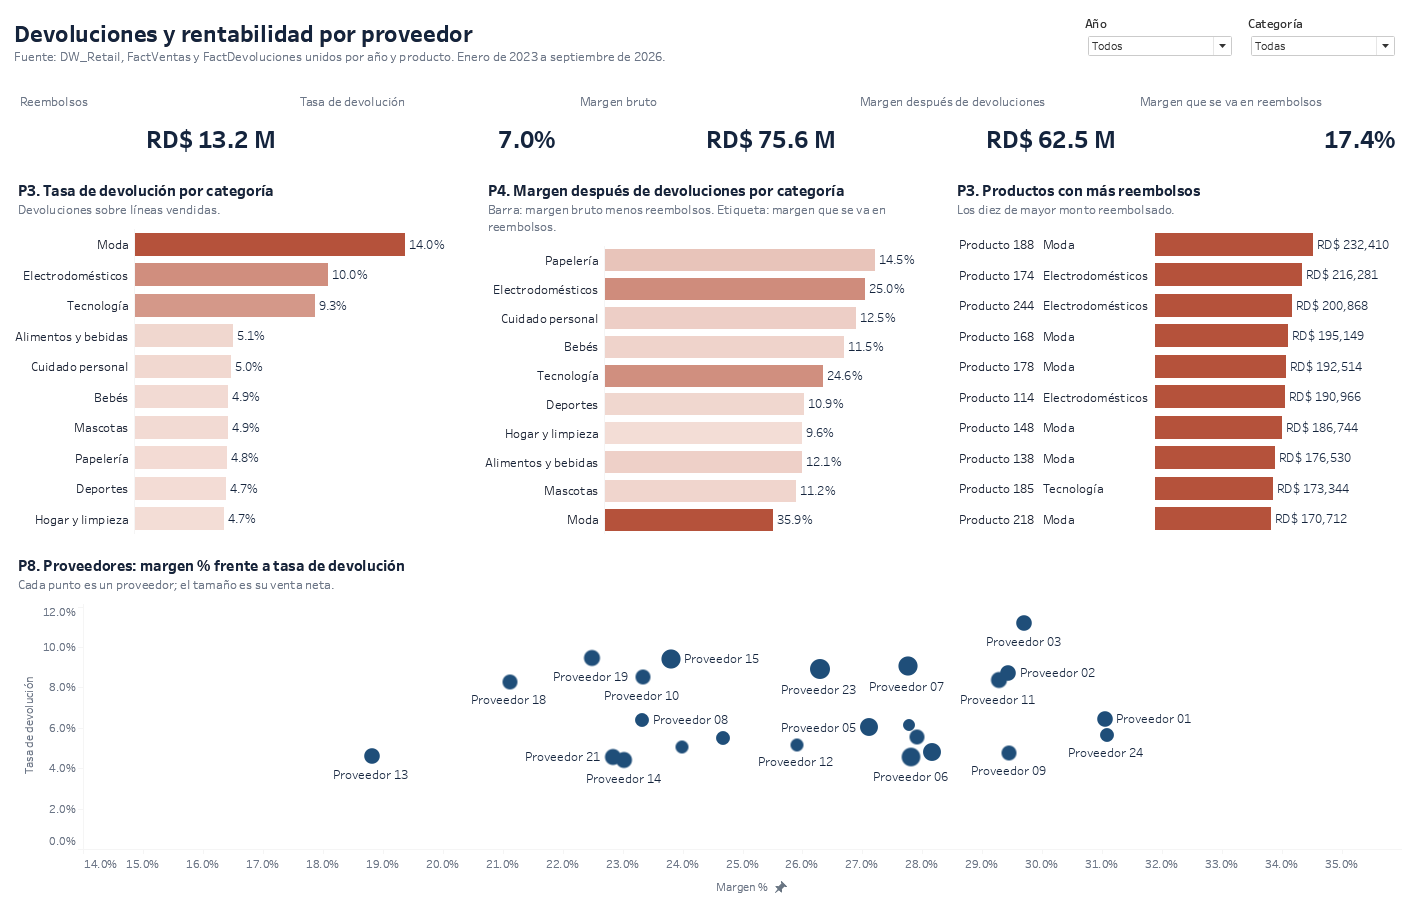

This screenshot's page, from the dashboard's own definition file:
{"tool":"tableau","page":{"name":"Devoluciones y proveedores","canvas":[1400,900],"ordinal":1},"visuals":[{"type":"text","box":[11.2,5.4,840,66.6]},{"type":"parameter","param":"[Parameters].[p_anio]","box":[1066.8,8.1,155.4,61.2]},{"type":"parameter","param":"[Parameters].[p_categoria]","box":[1227.8,8.1,155.4,61.2]},{"type":"worksheet","title":"D KPI reembolso","mark":"Text","box":[11.2,77.4,275.5,82.8]},{"type":"worksheet","title":"D KPI tasa","mark":"Text","box":[286.7,77.4,275.5,82.8]},{"type":"worksheet","title":"D KPI margen","mark":"Text","box":[562.2,77.4,275.5,82.8]},{"type":"worksheet","title":"D KPI neto","mark":"Text","box":[837.8,77.4,275.5,82.8]},{"type":"worksheet","title":"D KPI perdida","mark":"Text","box":[1113.3,77.4,275.5,82.8]},{"type":"worksheet","title":"Tasa devolucion","mark":"Bar","rows":["Categoria"],"cols":["TasaDev"],"box":[11.2,165.6,453.6,365.4]},{"type":"worksheet","title":"Margen neto","mark":"Bar","rows":["Categoria"],"cols":["MargenNeto"],"box":[473.2,165.6,453.6,365.4]},{"type":"worksheet","title":"Productos","mark":"Bar","rows":["NombreProducto","Categoria"],"cols":["MontoReembolso"],"box":[935.2,165.6,453.6,365.4]},{"type":"worksheet","title":"Proveedores","mark":"Circle","rows":["TasaDev"],"cols":["MargenPct"],"box":[11.2,536.4,1377.6,358.2]}]}

Visuals, with their boxes in screenshot pixels (x1, y1, x2, y2), scaled from the page's 1400x900 canvas onto the 1416x916 screenshot:
text: {"left": 11, "top": 5, "right": 861, "bottom": 73}
parameter: {"left": 1079, "top": 8, "right": 1236, "bottom": 71}
parameter: {"left": 1242, "top": 8, "right": 1399, "bottom": 71}
"D KPI reembolso" worksheet (Text marks): {"left": 11, "top": 79, "right": 290, "bottom": 163}
"D KPI tasa" worksheet (Text marks): {"left": 290, "top": 79, "right": 569, "bottom": 163}
"D KPI margen" worksheet (Text marks): {"left": 569, "top": 79, "right": 847, "bottom": 163}
"D KPI neto" worksheet (Text marks): {"left": 847, "top": 79, "right": 1126, "bottom": 163}
"D KPI perdida" worksheet (Text marks): {"left": 1126, "top": 79, "right": 1405, "bottom": 163}
"Tasa devolucion" worksheet (Bar marks): {"left": 11, "top": 169, "right": 470, "bottom": 540}
"Margen neto" worksheet (Bar marks): {"left": 479, "top": 169, "right": 937, "bottom": 540}
"Productos" worksheet (Bar marks): {"left": 946, "top": 169, "right": 1405, "bottom": 540}
"Proveedores" worksheet (Circle marks): {"left": 11, "top": 546, "right": 1405, "bottom": 911}
